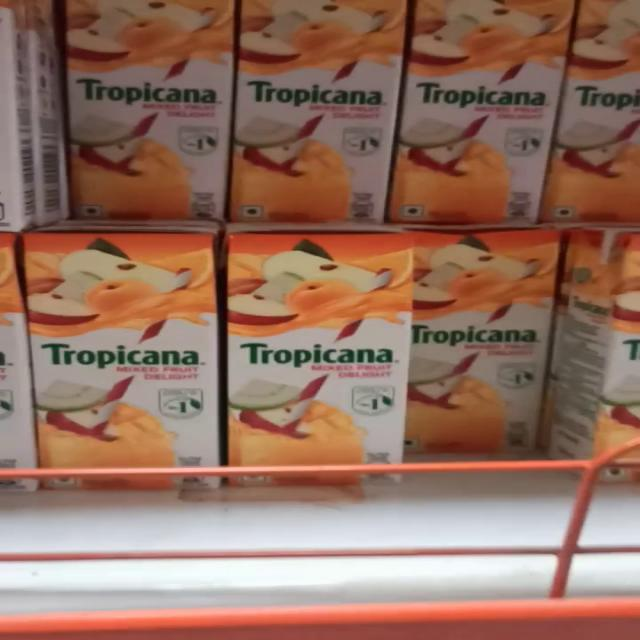Tropicana: (28, 215, 228, 490), (232, 222, 402, 488), (227, 0, 409, 209), (57, 2, 231, 208), (412, 0, 570, 215)
